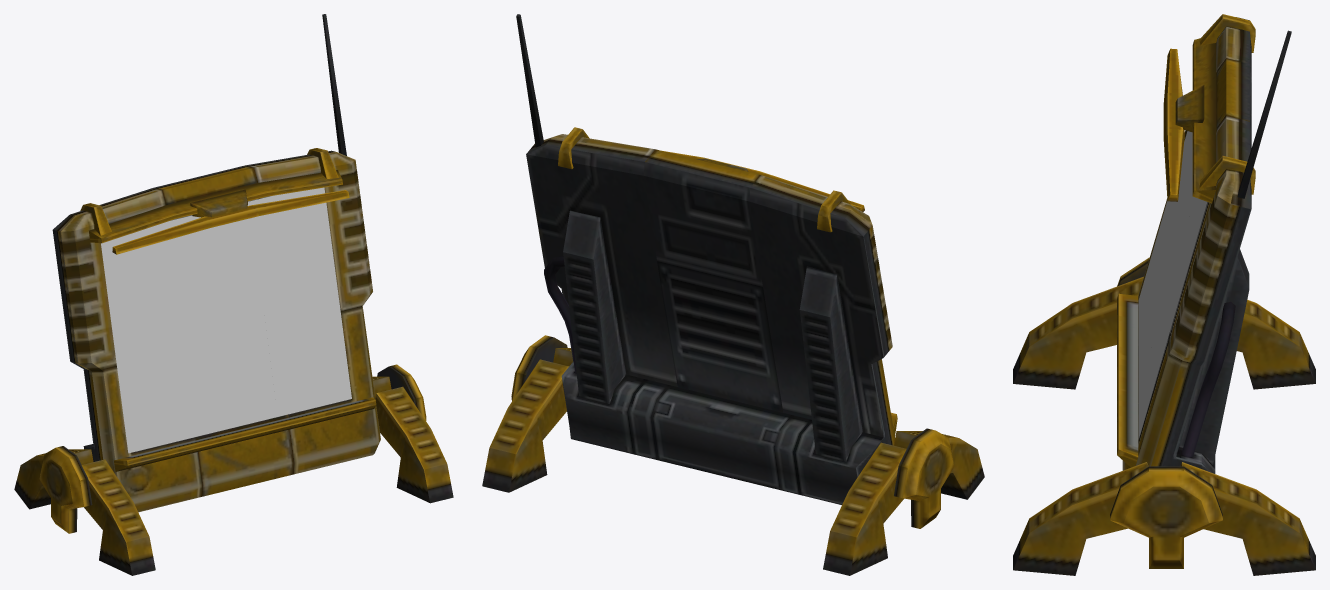
The model's file is billboardpropaganda_00.fbx.
The picture shows the model from 3 angles, left to right: view 1: azimuth 30°, elevation 25°; view 2: azimuth 150°, elevation 25°; view 3: azimuth 270°, elevation 25°; orthographic projection. The views are drawn at different scales.
Parts seen in each view (by area): view 1: Geoset_0, Geoset_1; view 2: Geoset_0; view 3: Geoset_0, Geoset_1.
Boxes of the visible parts, bbox=[...] form: Geoset_0: bbox=[14, 14, 453, 575]; Geoset_1: bbox=[101, 187, 351, 453]; Geoset_0: bbox=[482, 14, 984, 575]; Geoset_0: bbox=[1013, 14, 1315, 575]; Geoset_1: bbox=[1138, 131, 1207, 439].
Bounding box in the file's own units: 3.08 × 3.41 × 1.78.
1 material, 1 textured.
